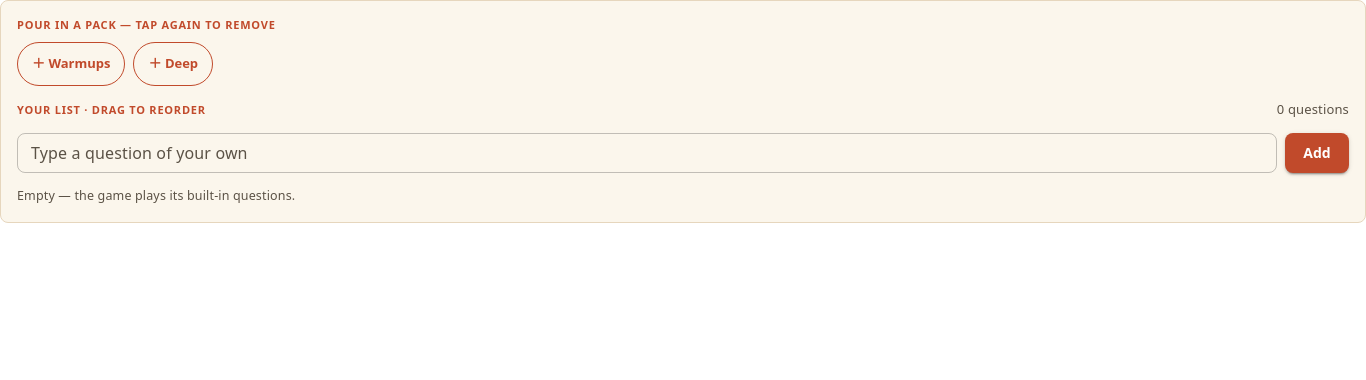
Test case: PromptSetEditor (Cycle 11) › A11 deletes a row and appends a custom question
Click the button "＋ Warmups": (71, 64) [17,42,126,86]
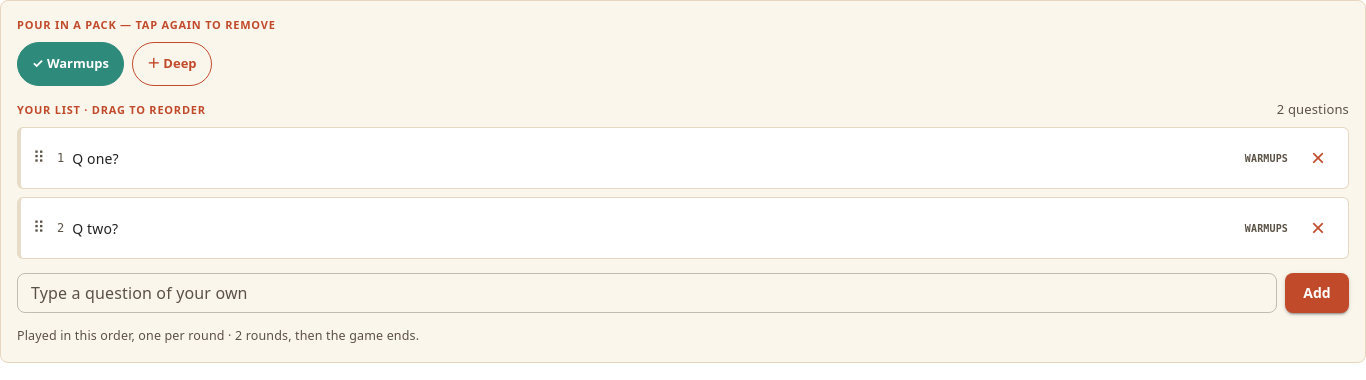
Click the button "×" in the row of "Q one?": (1318, 158) [1296,136,1340,180]
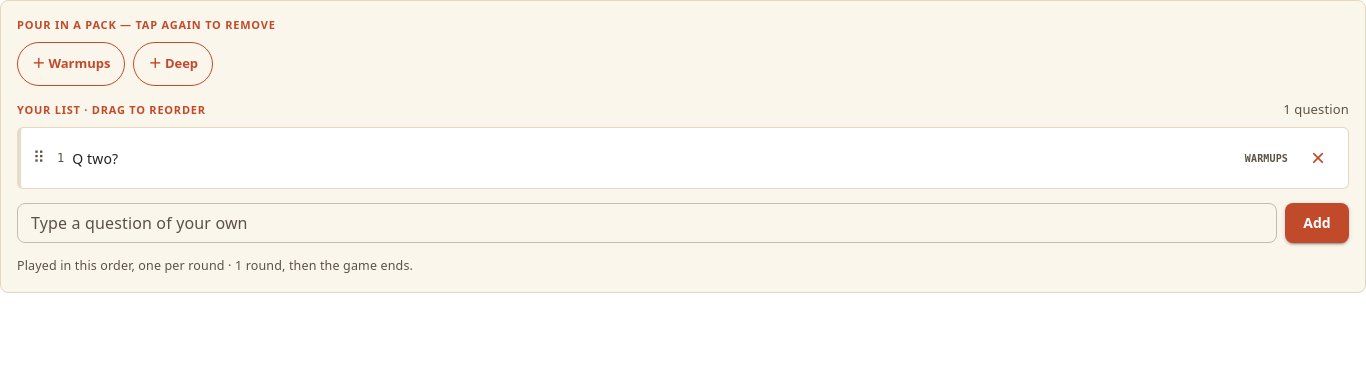
Expected: the text "Q one?" is gone
In the field labelled "Type a question of your own": (647, 223) [17,203,1277,243], type "My own?"
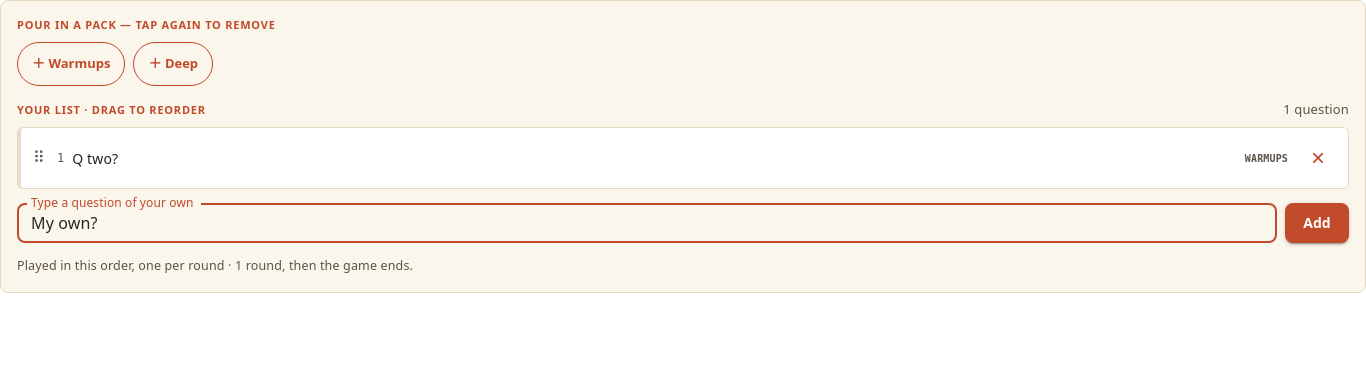
Click the button "Add": (1317, 223) [1285,203,1349,243]
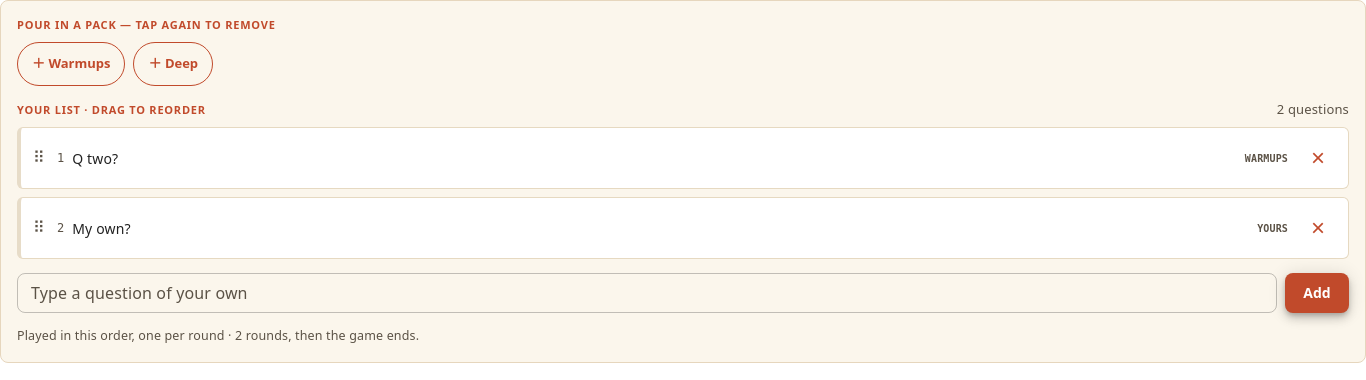
Expected: the text "My own?" is shown, [72,218,131,238]
